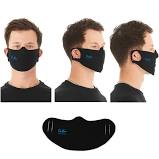cloth_mask: (70, 46, 105, 74), (3, 47, 42, 72), (130, 50, 159, 76)
